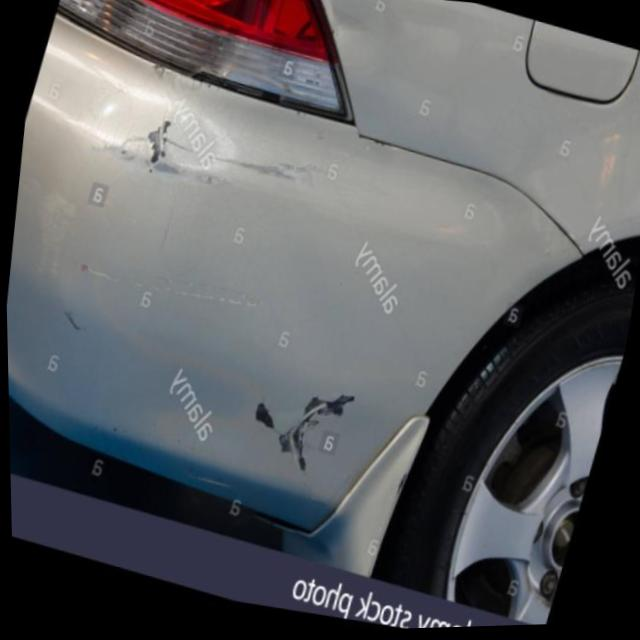Scratch: (81, 94, 326, 249), (225, 346, 383, 503)
